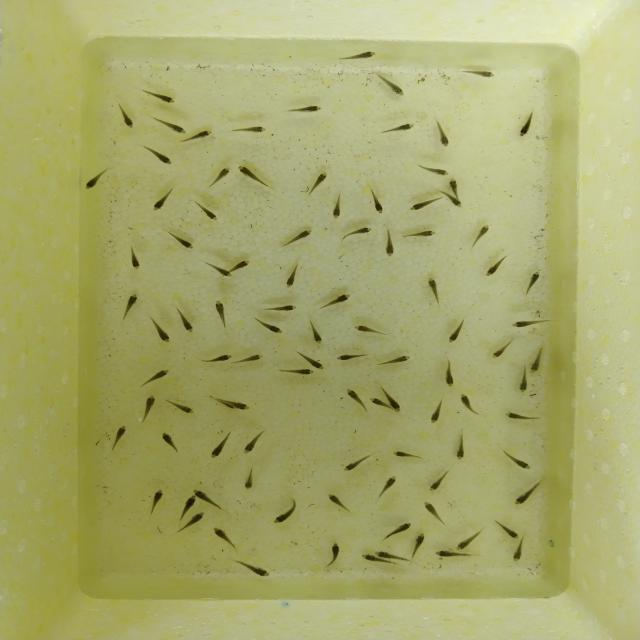fingerling: (232, 164, 273, 194), (509, 474, 544, 508), (268, 498, 303, 530), (104, 418, 134, 455), (80, 165, 120, 192), (187, 196, 223, 225), (464, 221, 498, 251), (204, 430, 238, 460), (420, 498, 451, 530), (284, 97, 329, 119), (138, 140, 176, 166), (147, 181, 177, 213), (496, 448, 536, 472), (374, 472, 406, 502), (479, 254, 514, 281), (231, 558, 276, 579), (422, 274, 448, 310), (338, 45, 382, 66), (324, 188, 351, 222), (502, 312, 553, 330), (145, 484, 172, 518), (136, 86, 184, 105), (442, 316, 472, 346), (304, 169, 336, 197), (277, 262, 309, 290), (142, 317, 174, 345), (207, 523, 239, 551), (375, 74, 409, 100), (316, 290, 360, 310), (455, 388, 484, 418), (486, 336, 519, 362), (375, 120, 417, 140), (338, 451, 374, 474), (426, 467, 455, 495), (341, 384, 368, 414), (118, 289, 144, 320), (210, 162, 235, 194), (136, 393, 161, 425), (489, 515, 521, 540), (208, 296, 230, 332), (407, 160, 453, 177), (136, 366, 170, 389), (450, 429, 473, 463), (454, 527, 488, 550), (514, 110, 540, 140), (519, 266, 545, 296), (241, 428, 267, 458), (406, 194, 443, 215), (385, 447, 430, 464), (336, 225, 376, 244), (280, 228, 318, 248), (364, 182, 387, 215), (430, 120, 457, 148), (228, 120, 270, 138), (326, 490, 356, 515), (322, 540, 347, 570), (164, 231, 198, 253), (352, 322, 393, 340), (373, 354, 414, 372), (173, 304, 196, 336), (379, 520, 414, 541), (252, 315, 285, 337), (436, 356, 458, 389), (151, 117, 189, 136), (500, 407, 545, 423), (260, 299, 304, 315), (427, 396, 449, 428), (330, 350, 373, 366), (409, 531, 432, 560), (456, 66, 500, 81), (158, 429, 182, 456), (161, 398, 199, 415), (303, 318, 326, 346), (240, 464, 262, 493), (193, 350, 235, 365), (402, 225, 441, 241), (124, 243, 144, 273), (114, 104, 137, 130), (510, 367, 531, 395), (506, 539, 530, 563), (527, 346, 547, 374), (433, 549, 478, 561), (235, 350, 268, 366), (274, 364, 314, 377), (382, 230, 398, 258), (208, 261, 232, 278), (228, 258, 252, 274), (188, 510, 208, 528), (192, 128, 217, 142), (367, 394, 388, 409), (181, 495, 198, 512), (446, 177, 462, 194), (443, 197, 465, 209), (310, 356, 326, 370), (388, 400, 406, 412), (234, 402, 251, 412), (359, 552, 376, 562), (190, 486, 206, 496), (374, 550, 391, 558)
